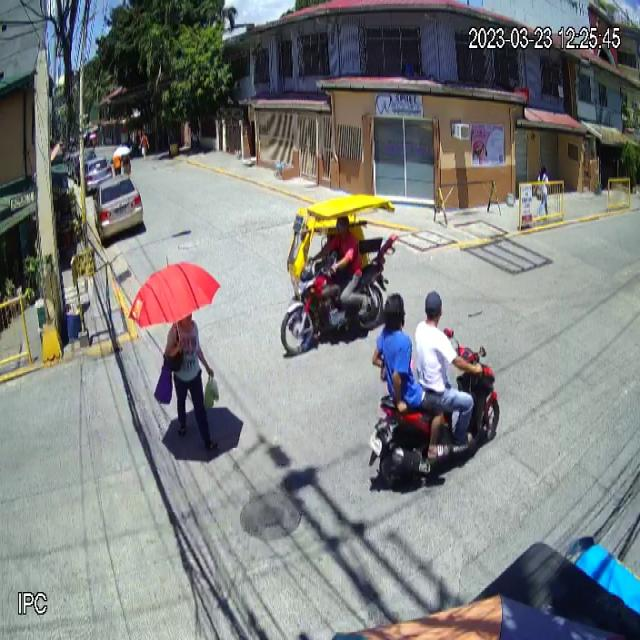Car: (92, 174, 143, 245)
Motorcycle: (367, 327, 500, 490)
Tricycle: (280, 193, 398, 354)
